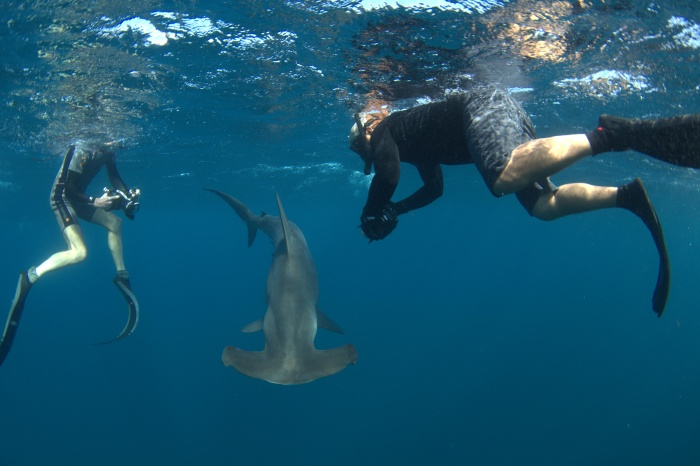Hammer: (175, 172, 372, 400)
